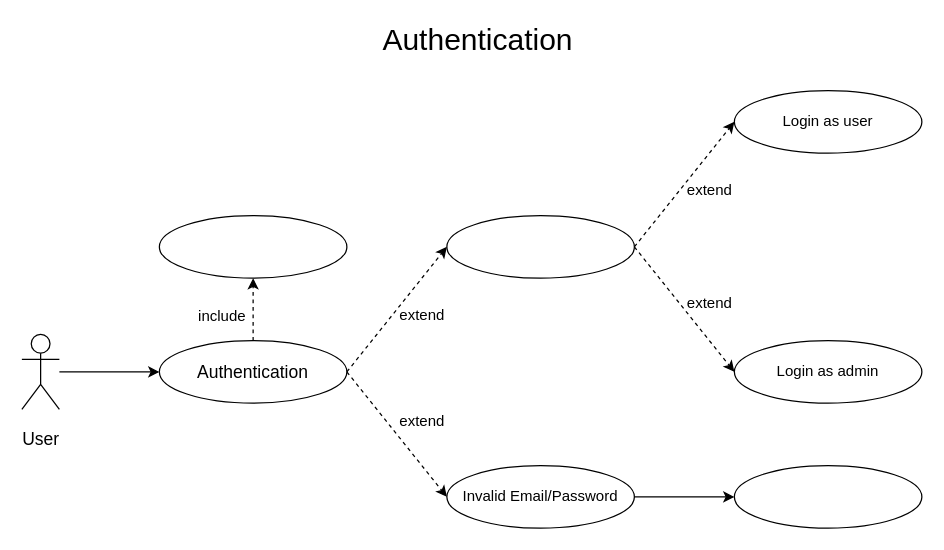
The diagram is 944 pixels wide and 550 high, and some of its shapes have lost their labels. The centre of each missing label's shape, as x and y in pixels:
"Error message" belongs at pixel 827 496.
"Have an account" belongs at pixel 252 246.
"Valid Email/Password" belongs at pixel 540 246.
